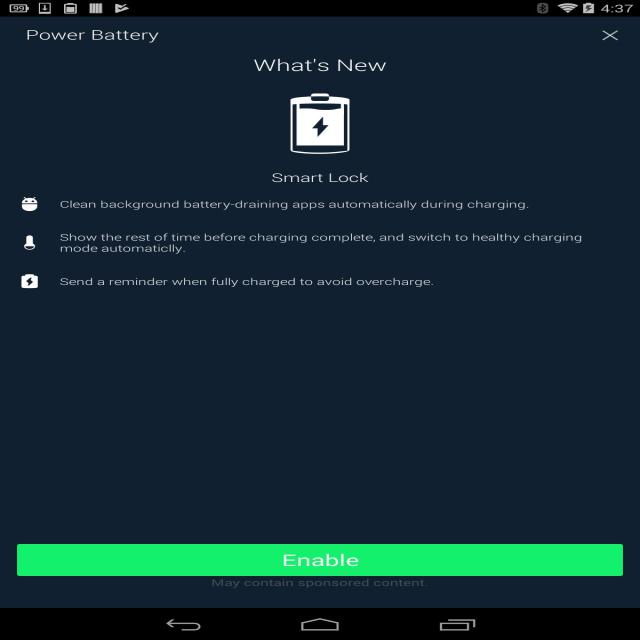button: (17, 544, 625, 576), (595, 24, 626, 47)
heading: (248, 54, 392, 76), (22, 25, 162, 45)
image: (282, 91, 359, 159), (19, 232, 45, 254), (17, 195, 42, 215), (19, 272, 41, 292)
text: (55, 228, 590, 256), (59, 272, 436, 292), (55, 197, 529, 211), (269, 171, 373, 186)
